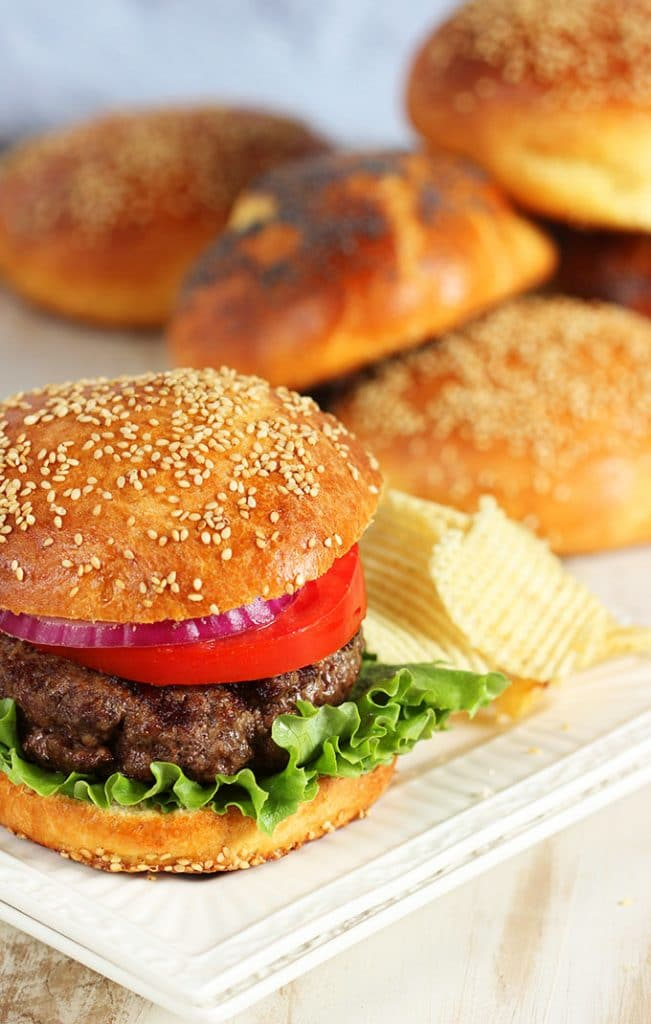hamburger_buns: (1, 360, 435, 880), (182, 110, 568, 415)
